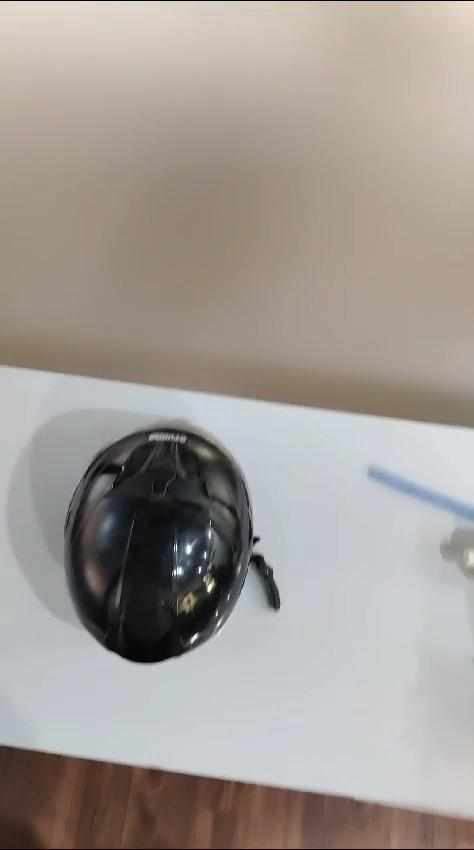Helmet: (66, 406, 250, 670)
